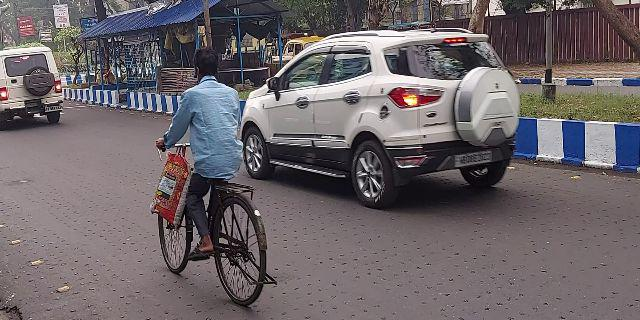Car: (244, 30, 523, 204), (1, 45, 68, 125)
Cycle: (133, 44, 287, 318)
